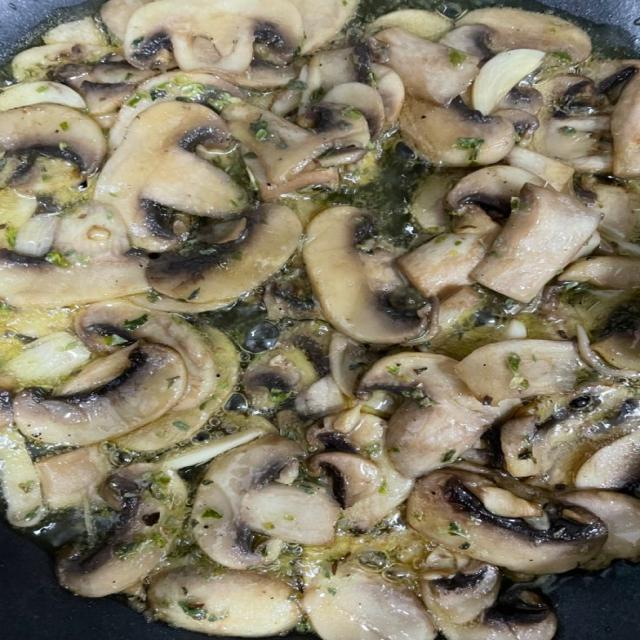champignon mushrooms: (96, 102, 246, 251), (407, 469, 606, 574), (360, 353, 512, 477), (14, 344, 186, 445), (57, 464, 186, 596), (303, 207, 427, 344), (147, 204, 301, 307), (76, 302, 219, 411), (472, 184, 599, 302), (222, 101, 370, 199), (193, 436, 301, 568), (308, 405, 413, 531), (124, 0, 304, 73), (147, 567, 301, 637), (109, 72, 245, 150), (302, 563, 437, 639), (423, 564, 557, 639), (0, 250, 148, 307), (0, 104, 106, 182), (455, 340, 584, 404), (374, 27, 478, 105), (398, 219, 500, 298), (400, 97, 516, 166), (457, 8, 591, 62), (239, 483, 339, 544), (560, 491, 639, 568), (446, 166, 545, 221), (421, 557, 500, 624), (0, 417, 46, 527), (243, 346, 319, 410), (35, 447, 111, 509), (472, 49, 544, 114), (310, 452, 382, 508), (12, 43, 113, 81), (291, 0, 358, 54), (506, 147, 574, 191), (611, 74, 639, 178), (558, 256, 639, 289), (367, 10, 451, 41), (0, 81, 86, 111), (100, 0, 153, 41), (439, 25, 493, 65)
